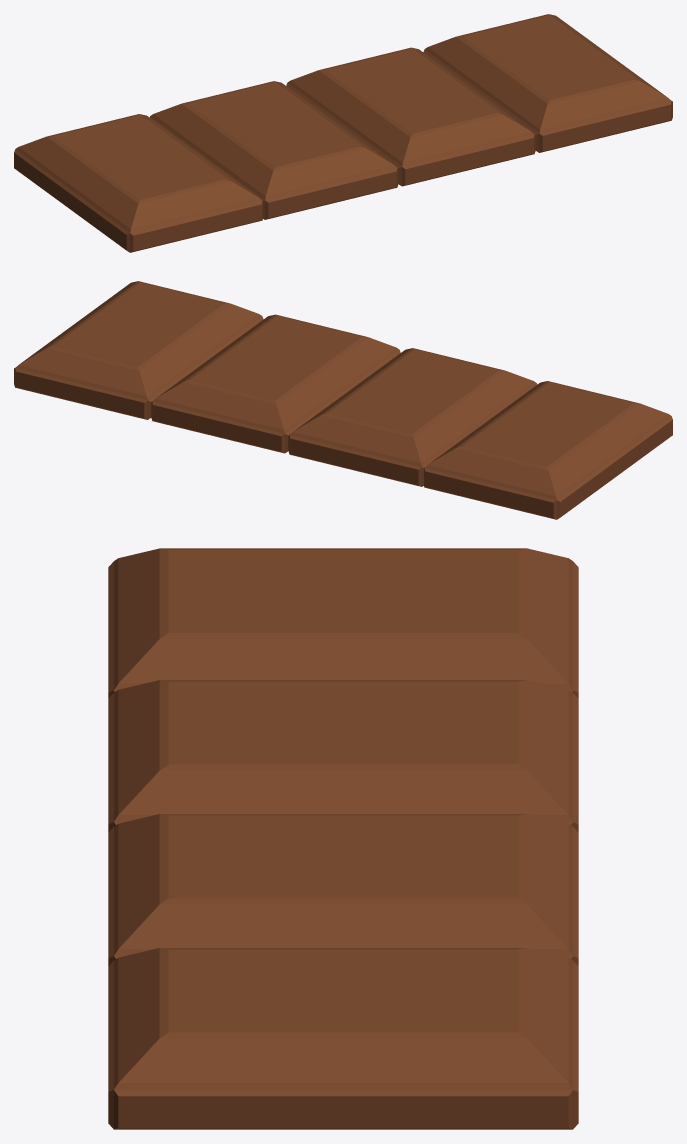
The model's file is pusher_head_choco.FBX.
3 views of the same model, one above another, from view 1: azimuth 30°, elevation 25°; view 2: azimuth 150°, elevation 25°; view 3: azimuth 270°, elevation 25° (orthographic). The views are drawn at different scales.
Visible parts, largest first — view 1: pusher_head_choco; view 2: pusher_head_choco; view 3: pusher_head_choco.
Boxes of the visible parts, x1,y1,x2,y2 form: pusher_head_choco: (14,14,672,252); pusher_head_choco: (14,281,672,519); pusher_head_choco: (108,548,578,1129).
Size of the model in its own units: 275 by 17.78 by 102.
